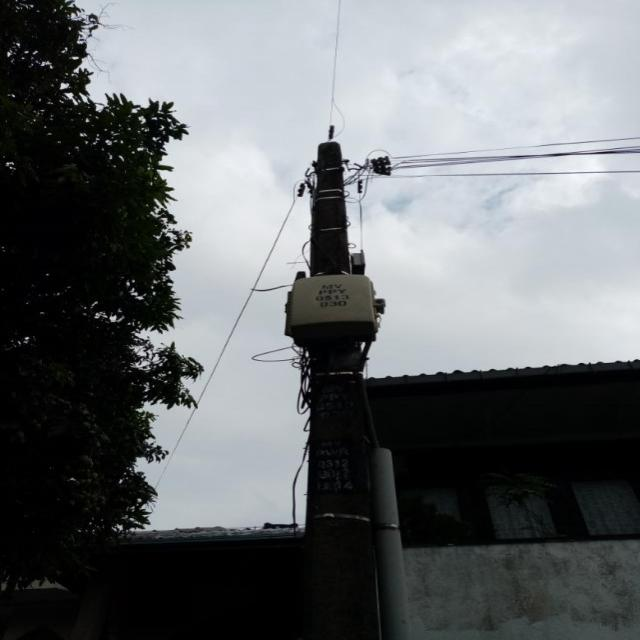light_pole: (290, 126, 406, 640)
